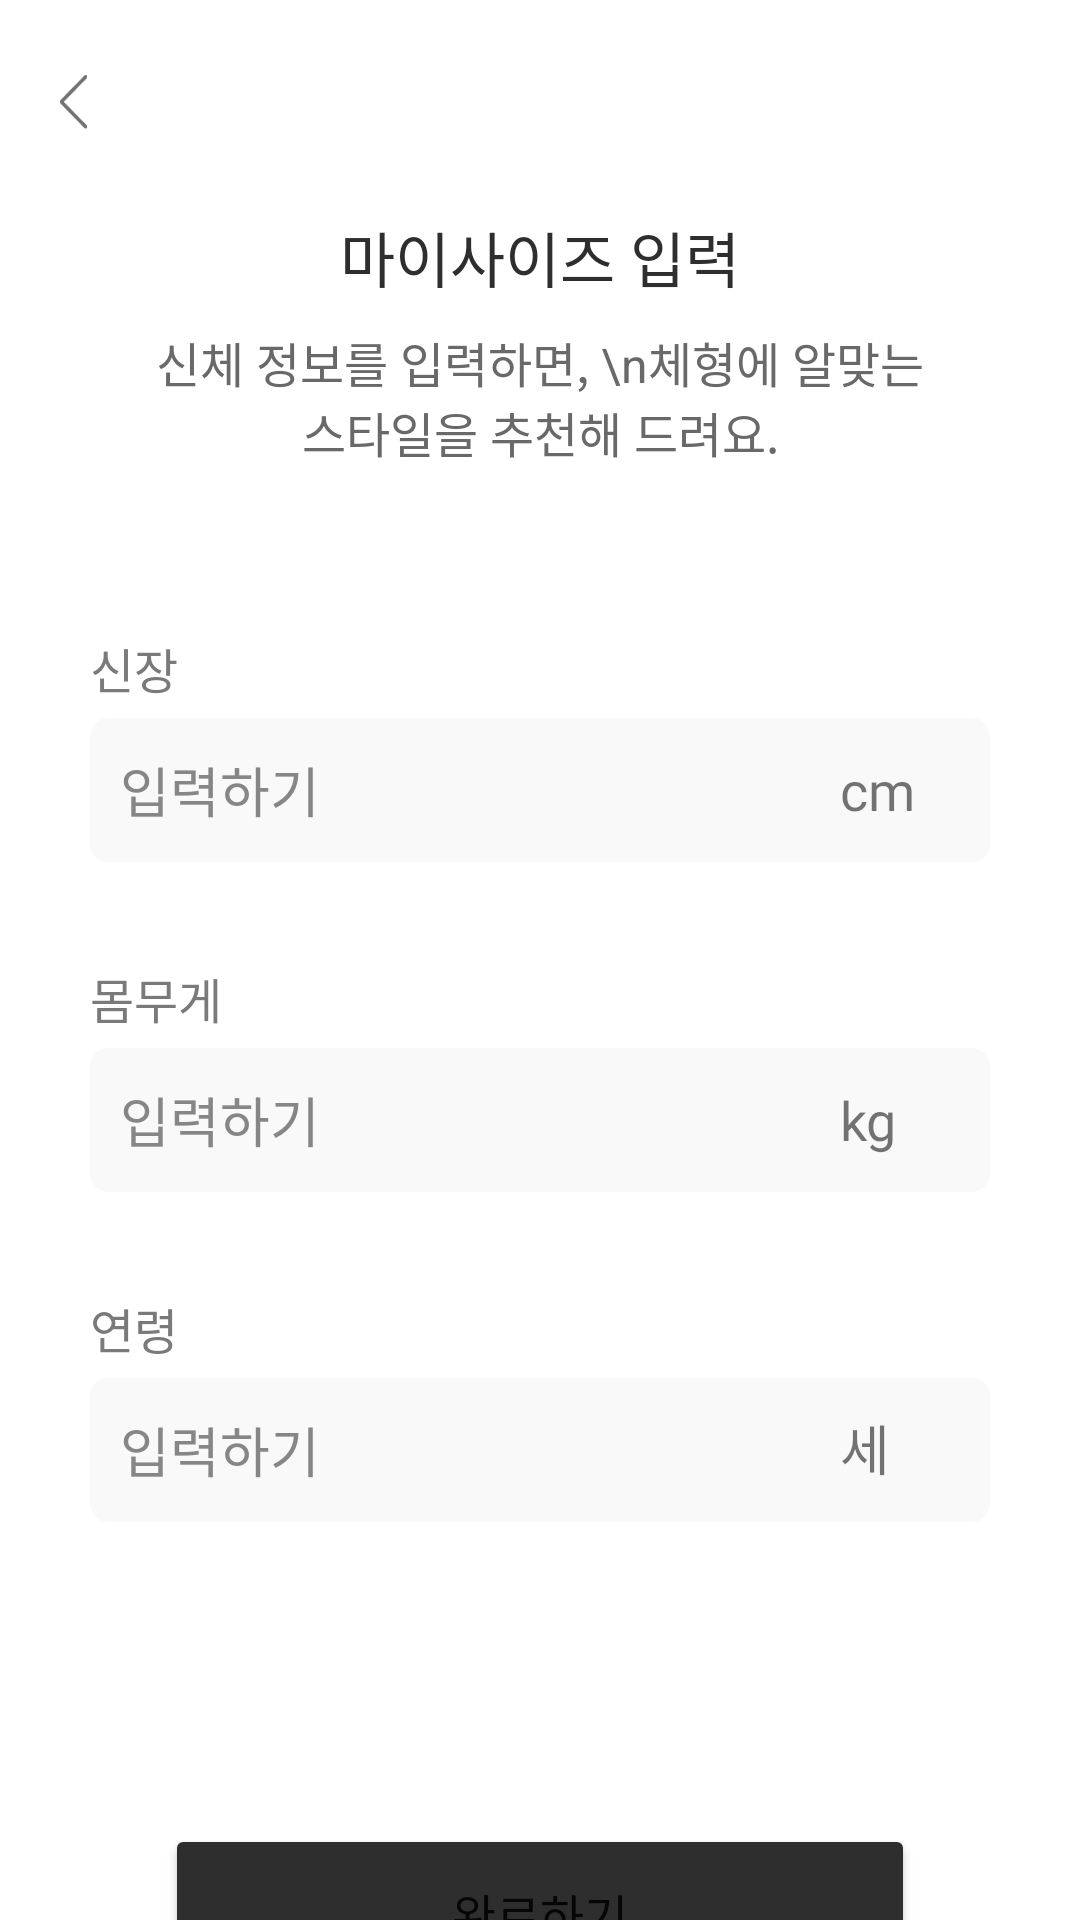

Icons on this 1080px x 1920px Android screen, each with its box as box(x1, y1, x2, y2):
prev: box(60, 75, 87, 129)
